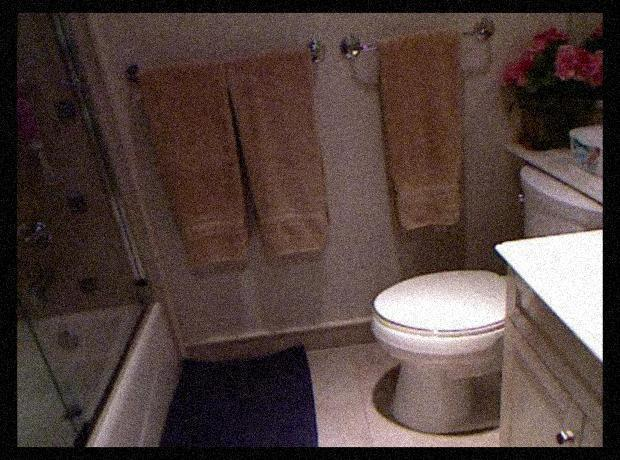Ducha: (19, 14, 170, 446)
Sanitario: (364, 162, 601, 432)
